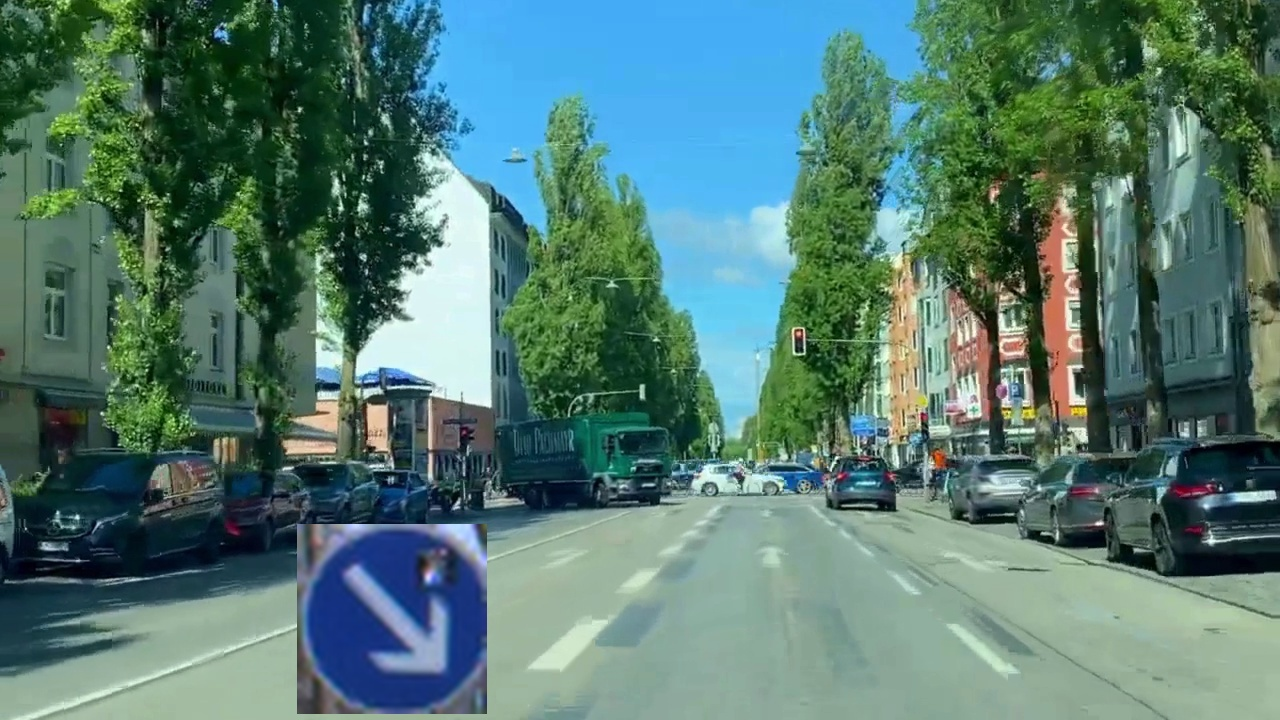Keep right: (297, 524, 487, 714)
